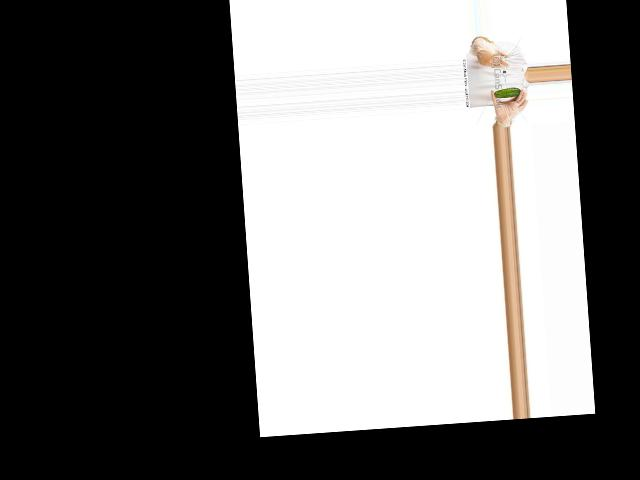cucumber: (493, 87, 521, 99)
